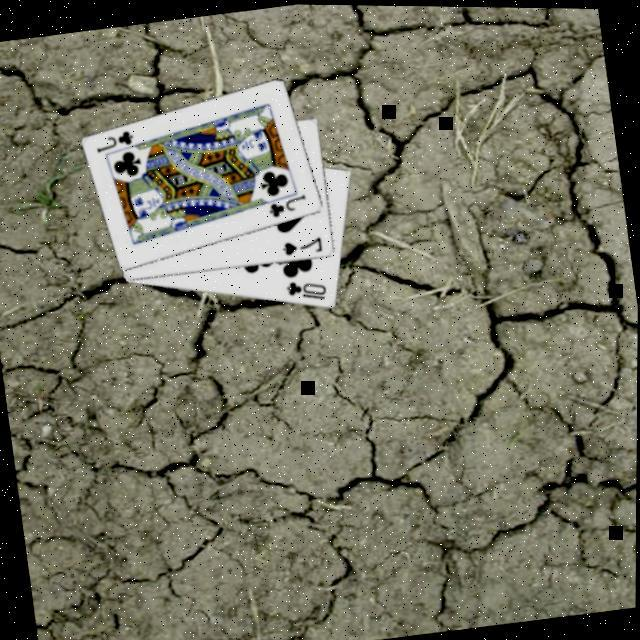10C: (281, 272, 329, 306)
7S: (278, 232, 324, 258)
JC: (263, 188, 310, 222), (90, 124, 136, 157)
